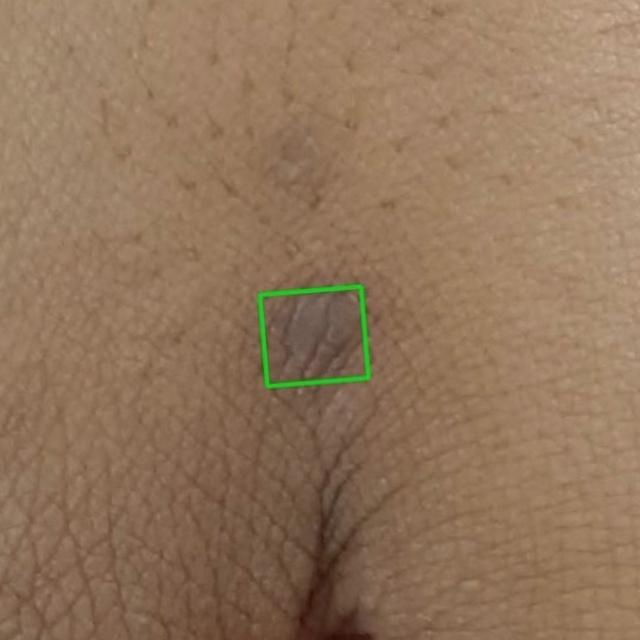Scabies: (259, 286, 368, 386)
